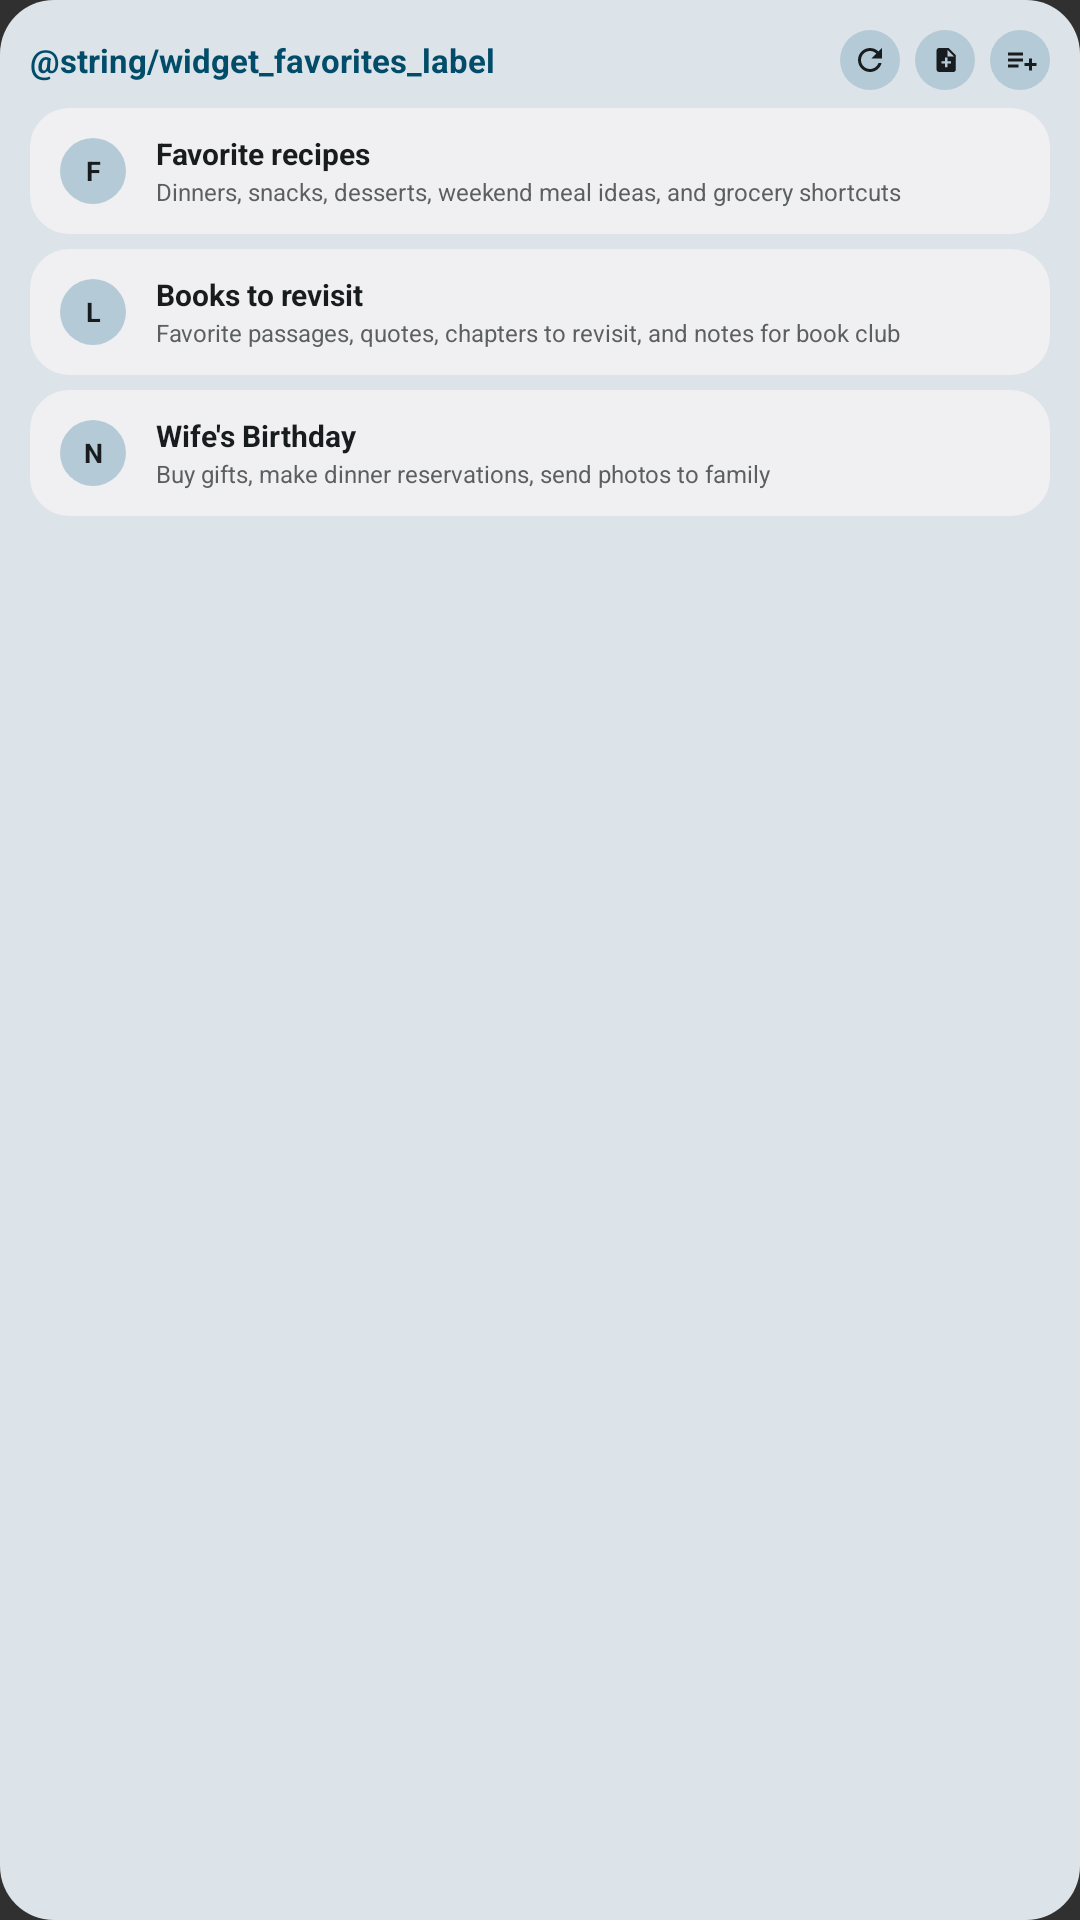

Point at icon controls on the screen. Image size 1080 x 1920, points as (x,y).
Create new list: (1020,60)
Create new note: (945,60)
Refresh widget: (870,60)
